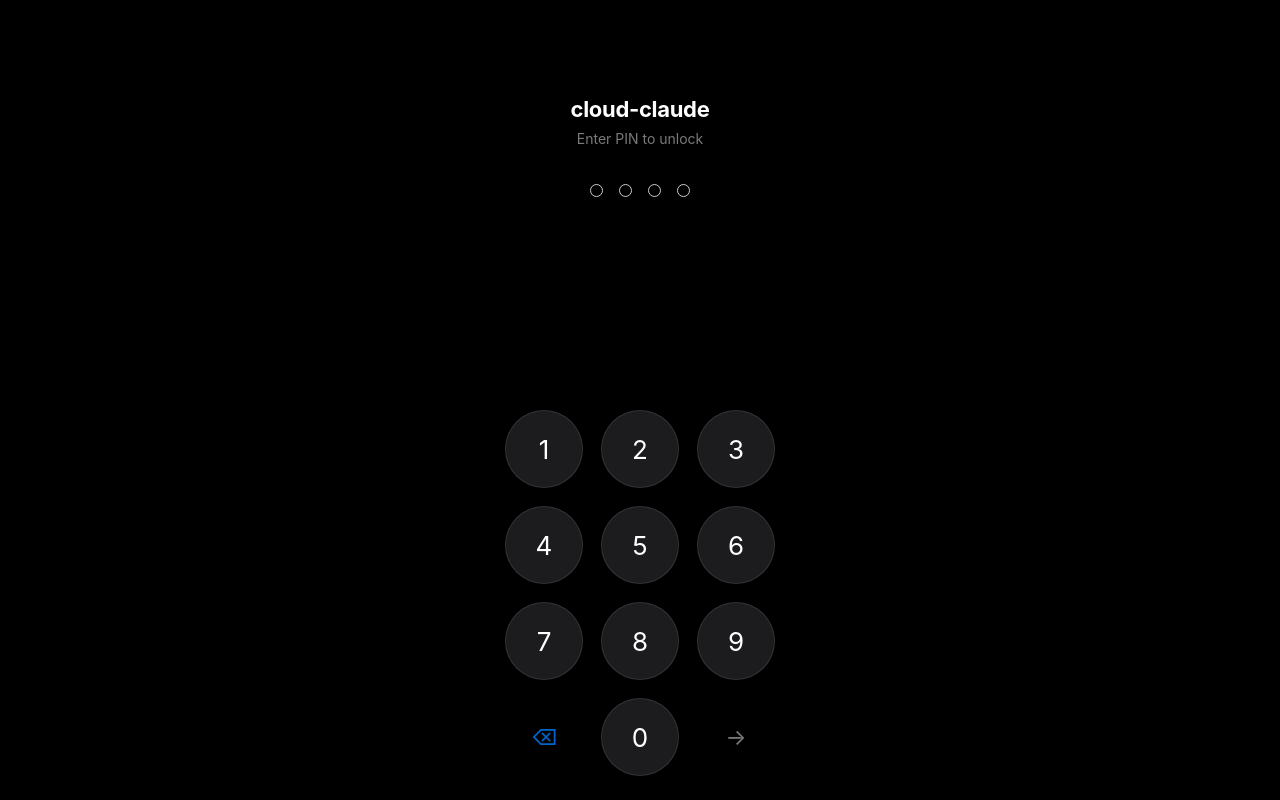
Test case: Unlock › shows an error and clears the PIN on a wrong code
This screenshot has width=1280, height=800.
What coordinates should you click on to do the following:
click the button "1"
I would click on:
 (544, 449)
Its box is top-left (505, 410), bottom-right (583, 488).
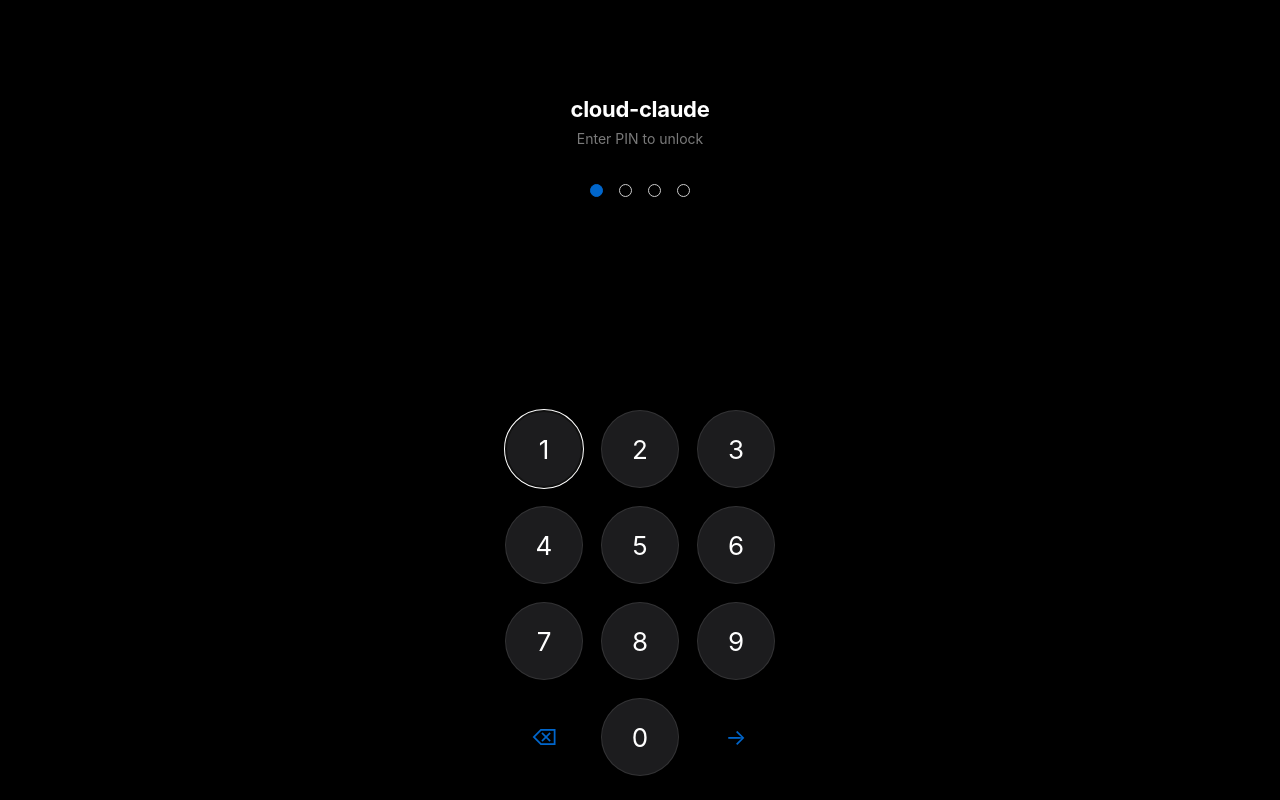
What coordinates should you click on to do the following:
click the button "2"
I would click on:
 (640, 449)
Its box is top-left (601, 410), bottom-right (679, 488).
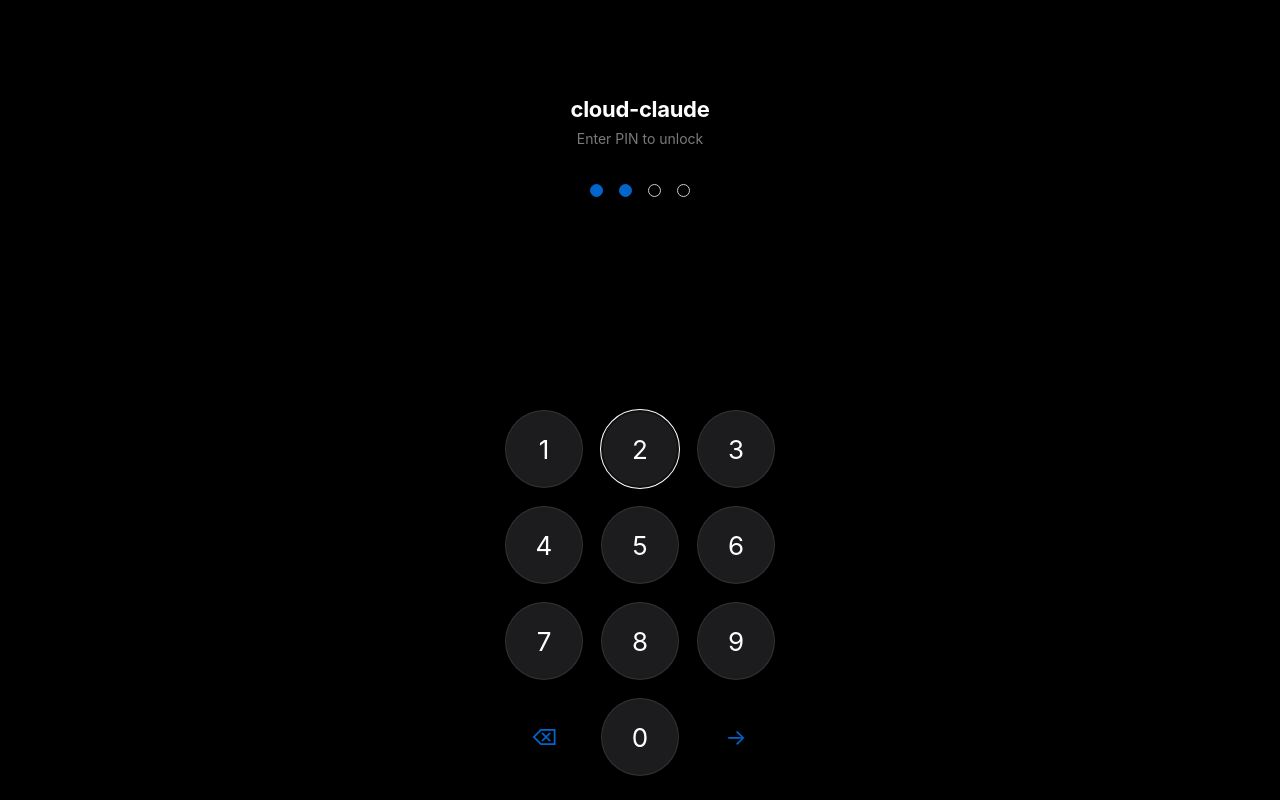
What coordinates should you click on to do the following:
click the button named "Submit"
I would click on:
 (736, 737)
Its box is top-left (697, 698), bottom-right (775, 776).
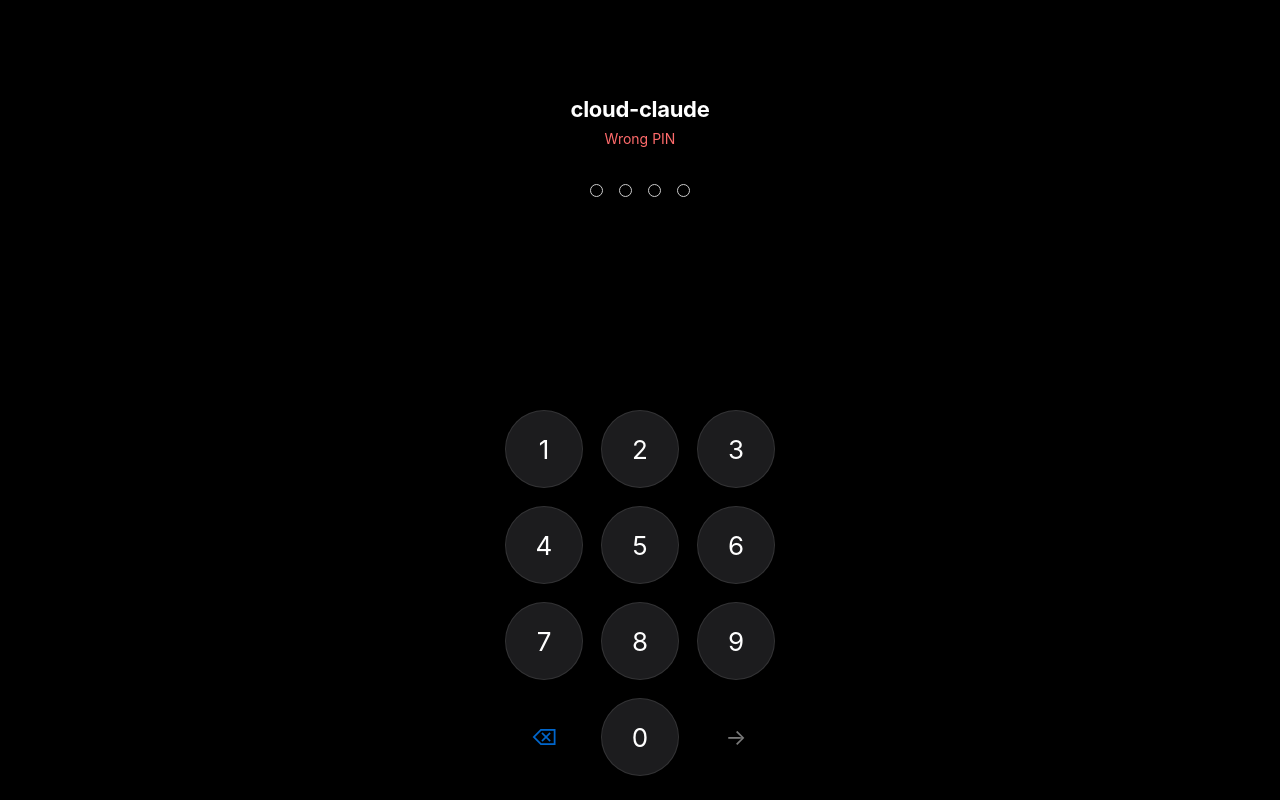
expect the text "Wrong PIN" is shown: met, box top-left (605, 130), bottom-right (675, 150)
